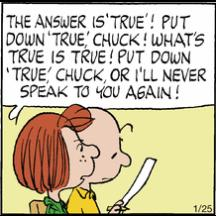charlie: (64, 104, 136, 214)
